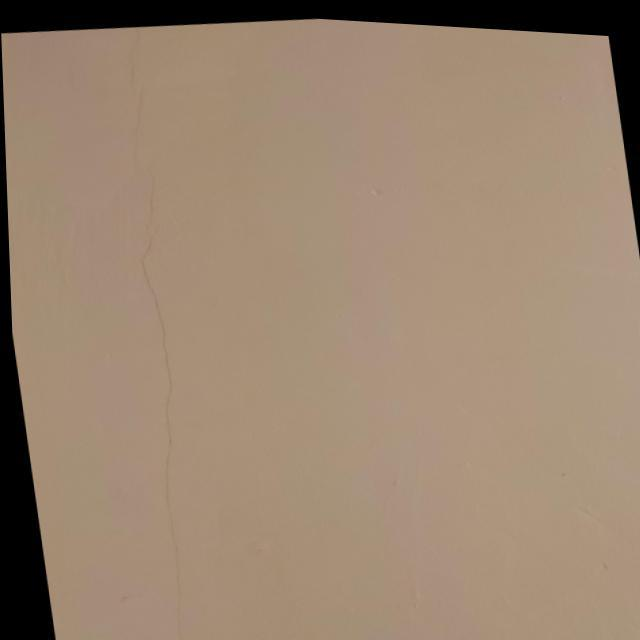Crack: (128, 33, 184, 637)
